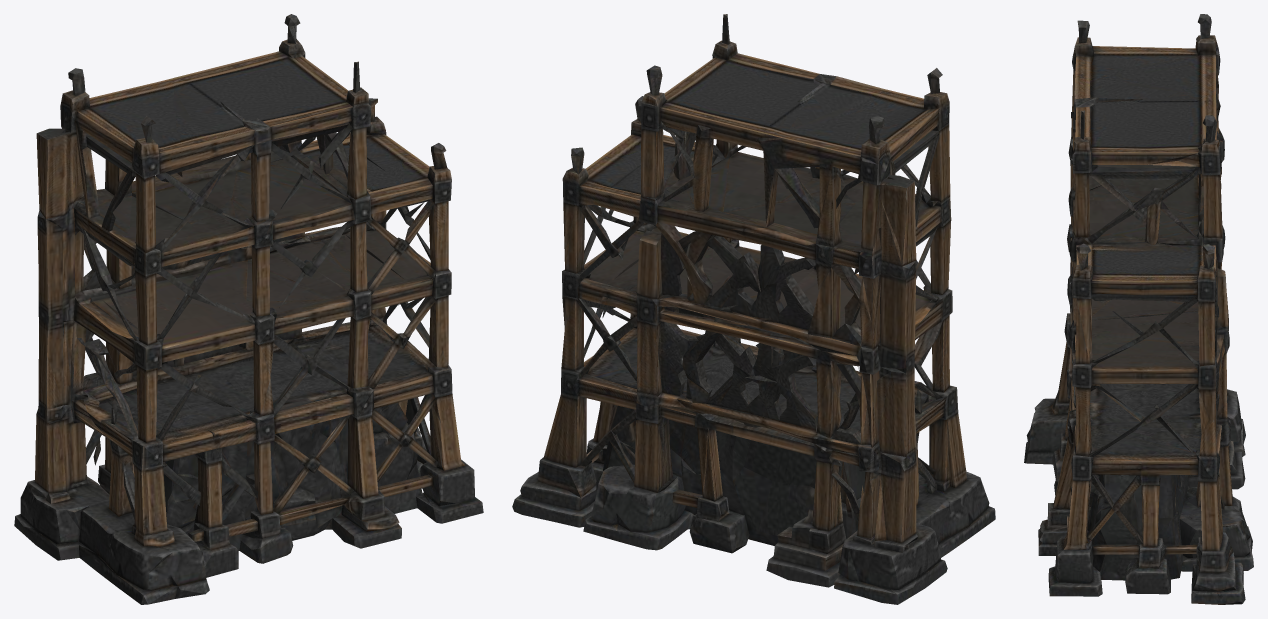
File: stunt-scaffold-tower.glb
3 renders of one model, left to right at view 1: azimuth 30°, elevation 25°; view 2: azimuth 150°, elevation 25°; view 3: azimuth 270°, elevation 25°, orthographic. The views are drawn at different scales.
Size of the model in its own units: 1.67 by 1.9 by 0.9103.
1 material, 1 textured.
